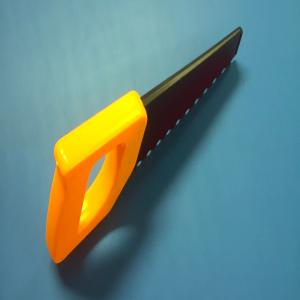serrote: (45, 26, 244, 264)
